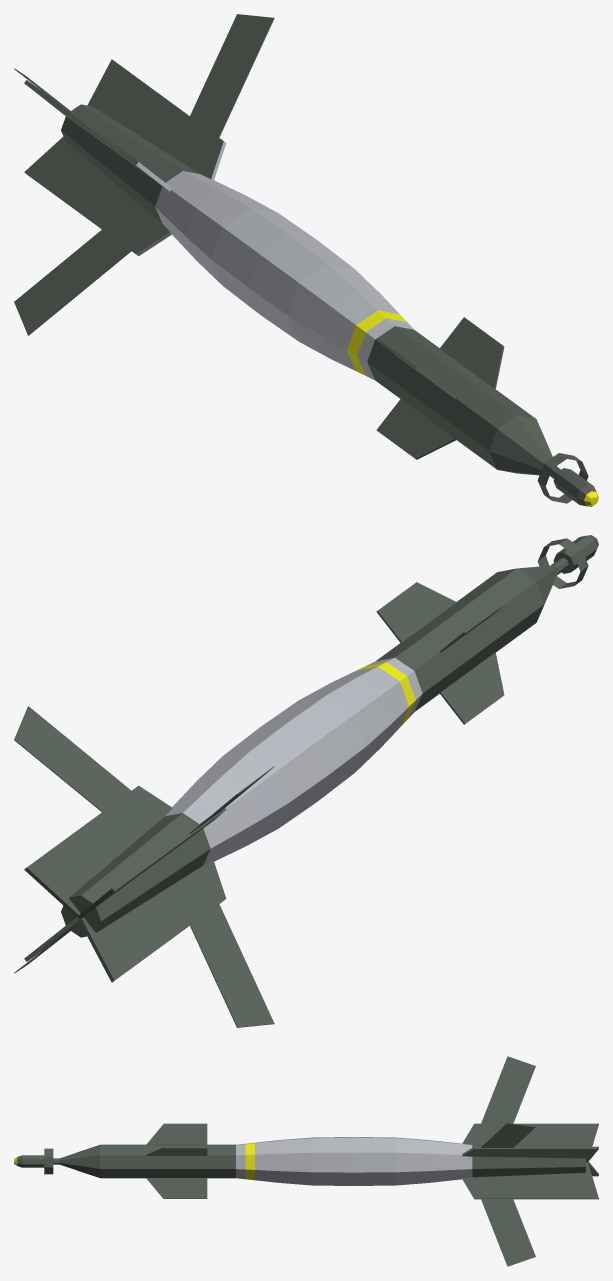
Rendered from GBU-12.glb.
3 views of the same model, one above another, from view 1: azimuth 30°, elevation 25°; view 2: azimuth 150°, elevation 25°; view 3: azimuth 270°, elevation 25° (orthographic). The views are drawn at different scales.
Parts seen in each view (by area): view 1: Bomb, Wings; view 2: Bomb, Wings; view 3: Bomb, Wings.
Part boxes in pixels (x1,y1,x2,y2): Bomb: (24, 59, 598, 506); Wings: (14, 14, 274, 335); Bomb: (24, 535, 598, 982); Wings: (14, 706, 274, 1027); Bomb: (14, 1123, 598, 1199); Wings: (481, 1056, 535, 1266).
Bounding box in the file's own units: 0.8839 × 0.8839 × 3.26.
Materials: 2 (2 with a texture image).
